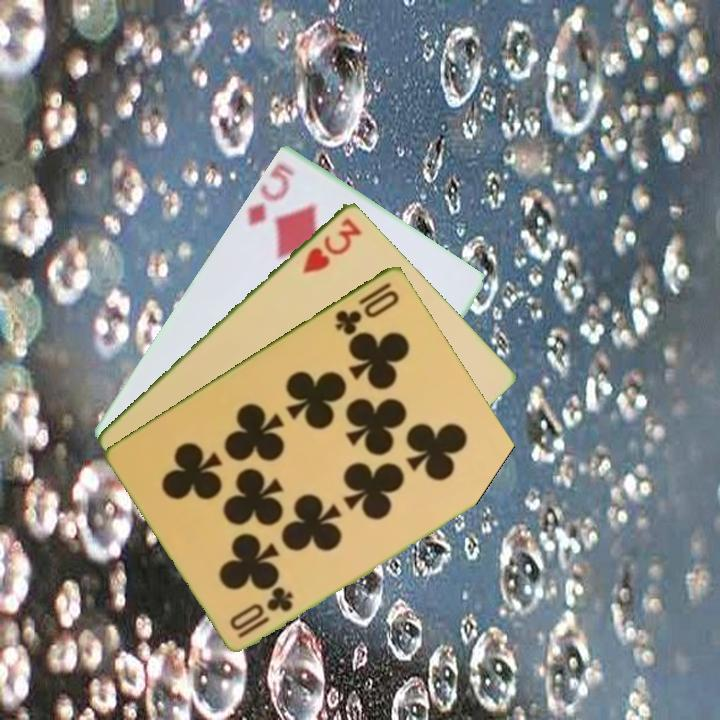10c: (331, 278, 403, 337), (226, 584, 296, 641)
3h: (298, 213, 365, 276)
5d: (243, 159, 297, 228)
